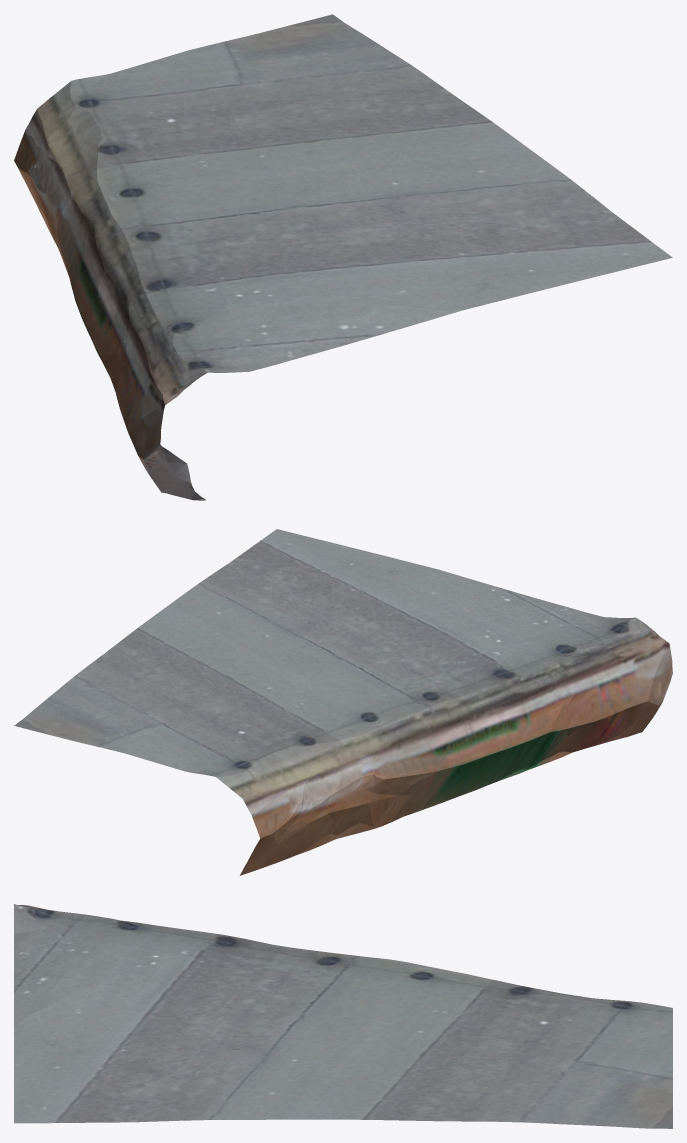
3 views of the same model, one above another, from view 1: azimuth 30°, elevation 25°; view 2: azimuth 150°, elevation 25°; view 3: azimuth 270°, elevation 25° (orthographic). The views are drawn at different scales.
Bounding box in the file's own units: 3.65 × 0.8986 × 4.18.
2 materials, 2 textured.
